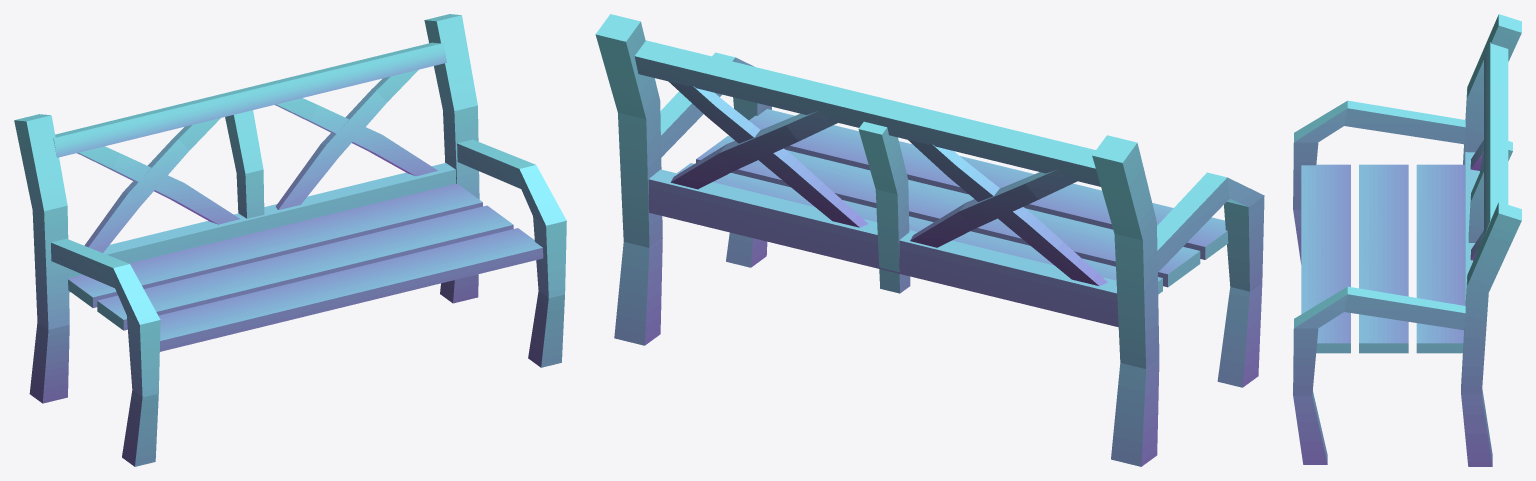
File: chair_1.gltf
The picture shows the model from 3 angles, left to right: view 1: azimuth 30°, elevation 25°; view 2: azimuth 150°, elevation 25°; view 3: azimuth 270°, elevation 25°; orthographic projection. The views are drawn at different scales.
Visible parts, largest first — view 1: Object_29; view 2: Object_29; view 3: Object_29.
Part boxes in pixels (x1=…): Object_29: x1=14, y1=14, x2=566, y2=466; Object_29: x1=595, y1=14, x2=1264, y2=466; Object_29: x1=1293, y1=14, x2=1521, y2=466.
Bounding box in the file's own units: 5.53 × 3.28 × 2.68.
Materials: 1 (1 with a texture image).
